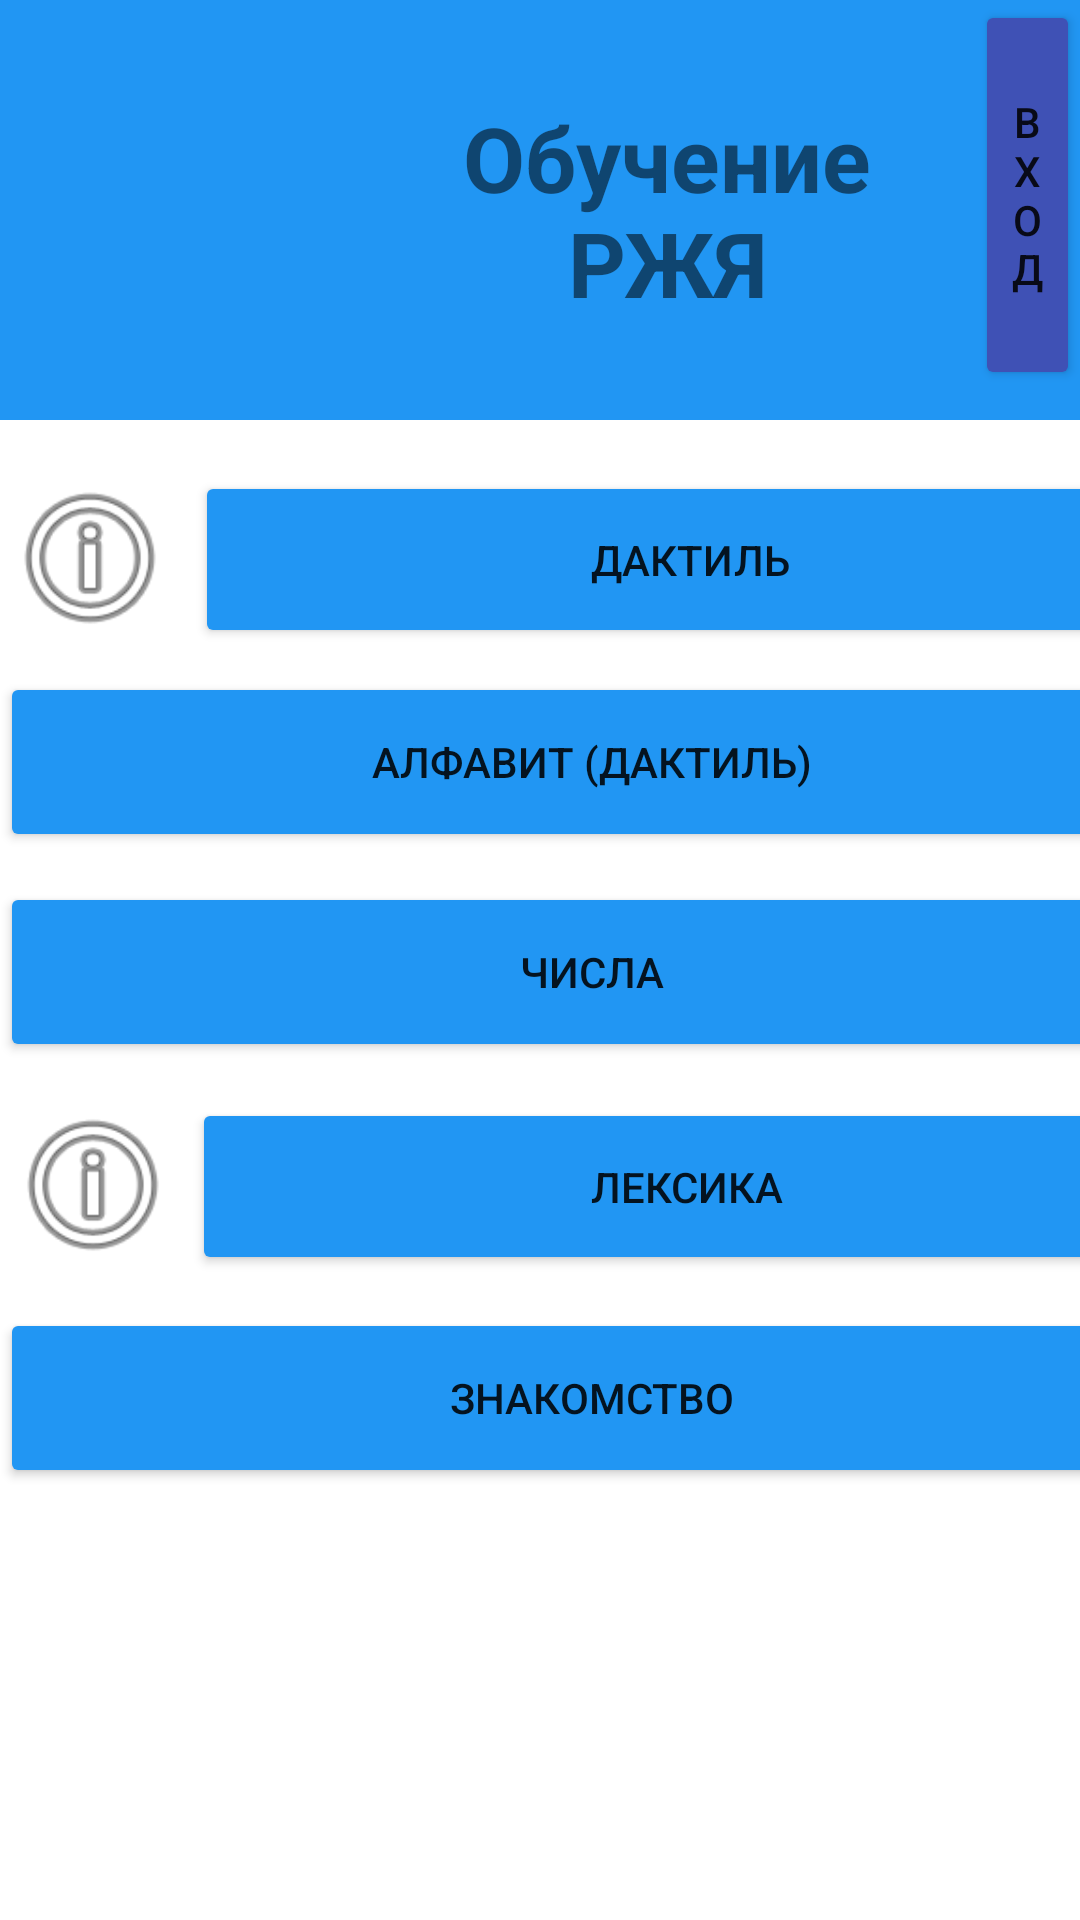

Icon click points for this 1080px×1920px phone screenshot, format point (x, y):
info details: point (90, 558), point (93, 1185)
